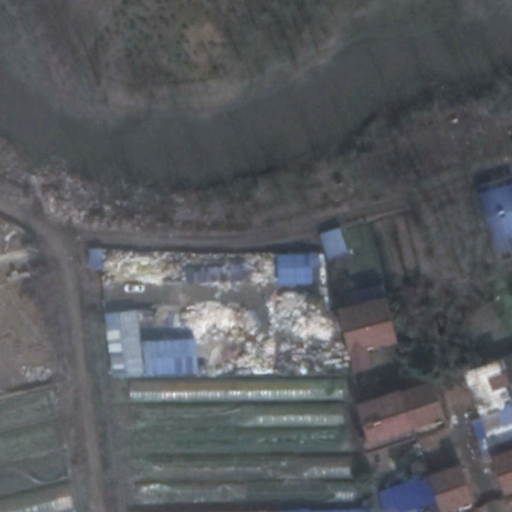msw: (103, 246, 349, 376)
